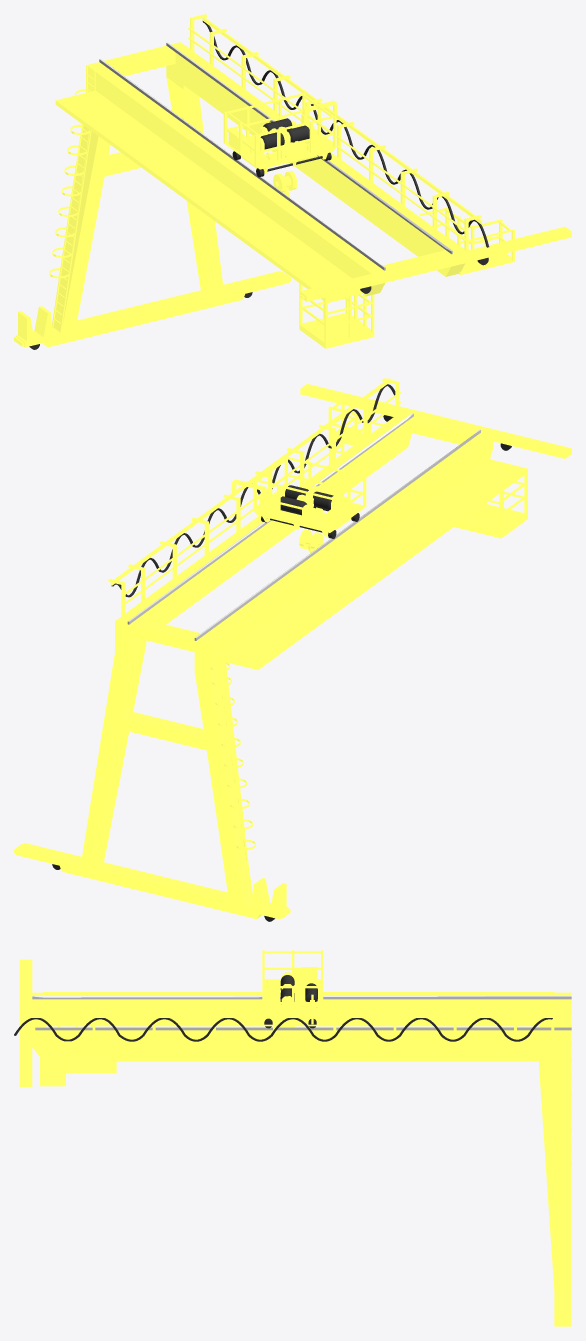
3 views of the same model, one above another, from view 1: azimuth 30°, elevation 25°; view 2: azimuth 150°, elevation 25°; view 3: azimuth 270°, elevation 25° (orthographic). The views are drawn at different scales.
Visible parts, largest first — view 1: 1_Bay_C_864_Body, 1_Bay_C_864_Head_01, 1_Bay_C_863_Head_Hook_01.001; view 2: 1_Bay_C_864_Body, 1_Bay_C_864_Head_01; view 3: 1_Bay_C_864_Body, 1_Bay_C_864_Head_01.
Boxes of the visible parts, bbox=[...] form: 1_Bay_C_864_Body: bbox=[14, 14, 571, 349]; 1_Bay_C_864_Head_01: bbox=[223, 92, 337, 177]; 1_Bay_C_863_Head_Hook_01.001: bbox=[273, 171, 297, 197]; 1_Bay_C_864_Body: bbox=[14, 378, 571, 921]; 1_Bay_C_864_Head_01: bbox=[231, 456, 366, 538]; 1_Bay_C_864_Body: bbox=[14, 959, 571, 1326]; 1_Bay_C_864_Head_01: bbox=[262, 950, 323, 1028].
Size of the model in its own units: 9.43 by 10.49 by 17.87.
